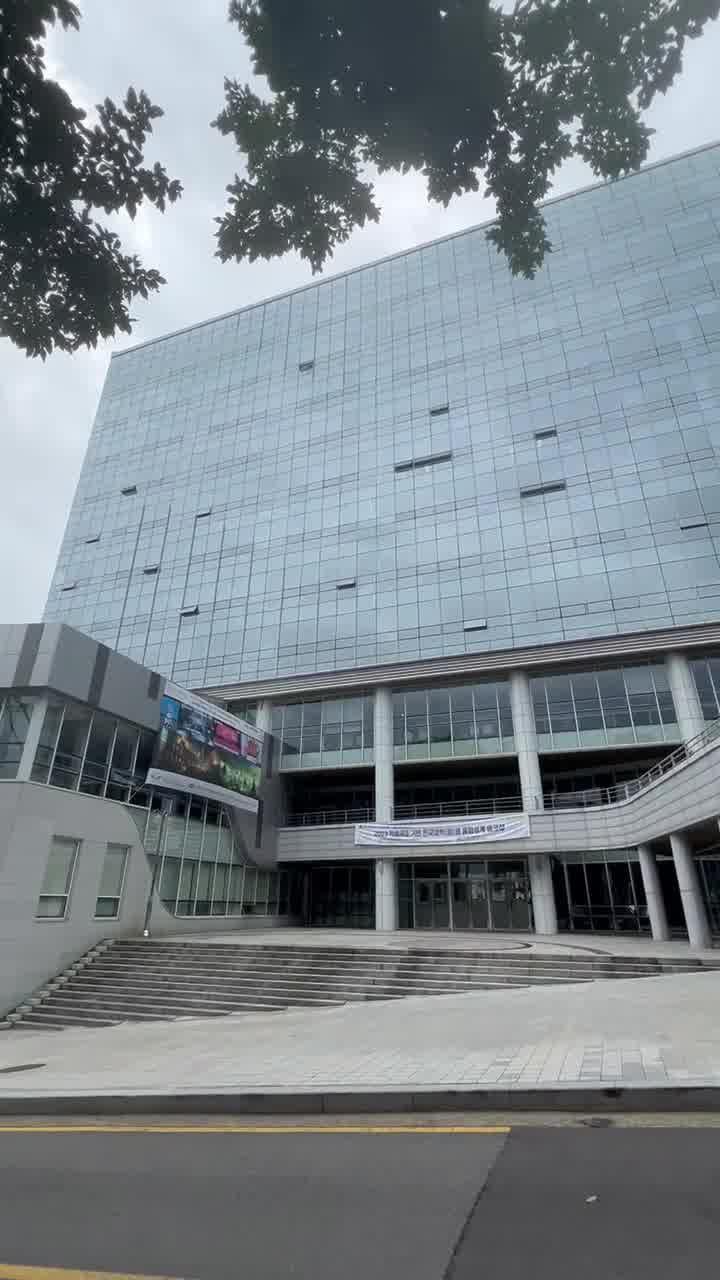building: (82, 290, 720, 892)
